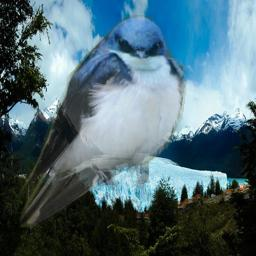Swallow: (14, 14, 187, 228)
